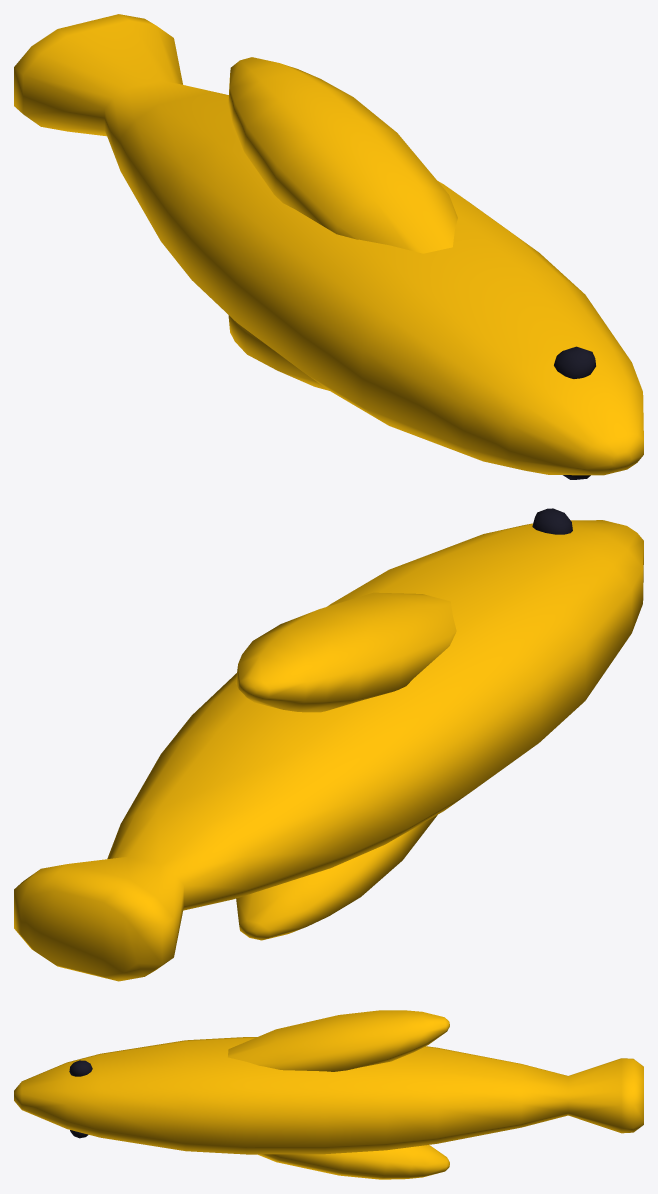
The model's file is GoldenFish.fbx.
3 renders of one model, top to bottom at view 1: azimuth 30°, elevation 25°; view 2: azimuth 150°, elevation 25°; view 3: azimuth 270°, elevation 25°, orthographic. The views are drawn at different scales.
Visible parts, largest first — view 1: Body2; view 2: Body2; view 3: Body2.
Part boxes in pixels (left/top/right/bottom): Body2: left=14, top=14, right=643, bottom=479; Body2: left=14, top=508, right=643, bottom=981; Body2: left=14, top=1010, right=643, bottom=1179.
Bounding box in the file's own units: 30.6 × 33.93 × 122.
